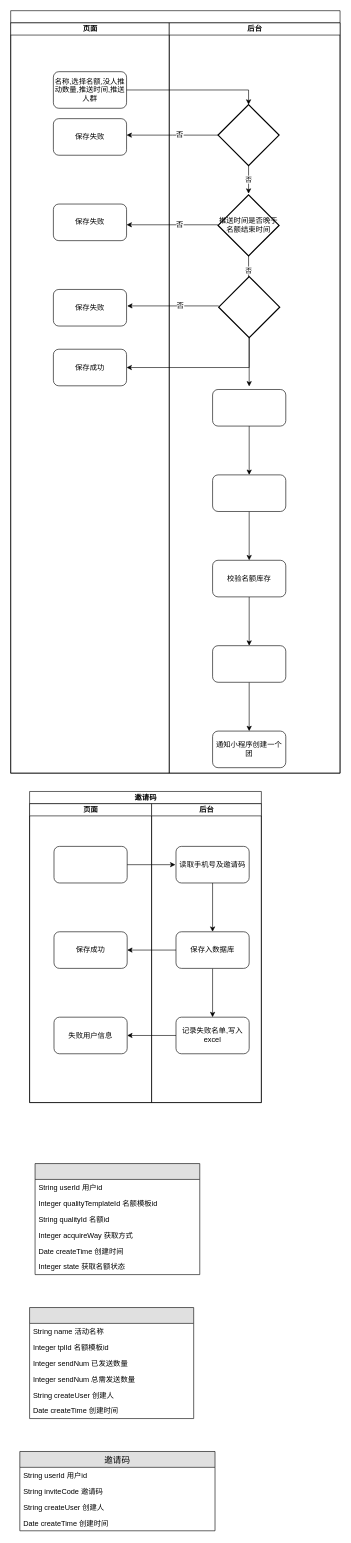
This 351x1543 diagram has some shape labels left out. Each missing label, with the box of its shape:
上传excel文件: (53, 846, 127, 883)
名额推送: (10, 10, 340, 773)
名额是否已可卖: (217, 104, 279, 166)
名额获取详情: (34, 1163, 200, 1275)
后台job根据时间来查询时间已到的推送: (212, 389, 286, 426)
推送人数是否大于10000: (218, 276, 280, 338)
推送名额: (29, 1307, 194, 1419)
查询推送活动下需要推送的用户: (212, 474, 286, 511)
给每个用户获取名额: (212, 645, 286, 682)
